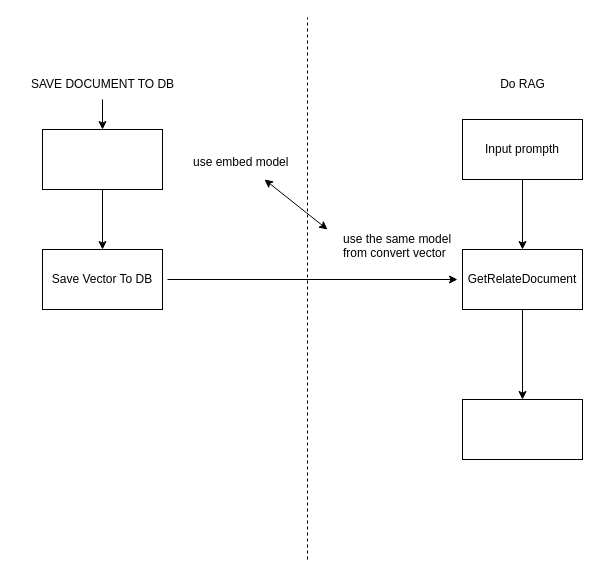
Image size: 600x578. Some labels were removed from this diagram. Each missing label, with the box of its shape:
Convert Text To Vector: (42, 128, 162, 190)
Generate A Completion: (462, 398, 582, 460)
